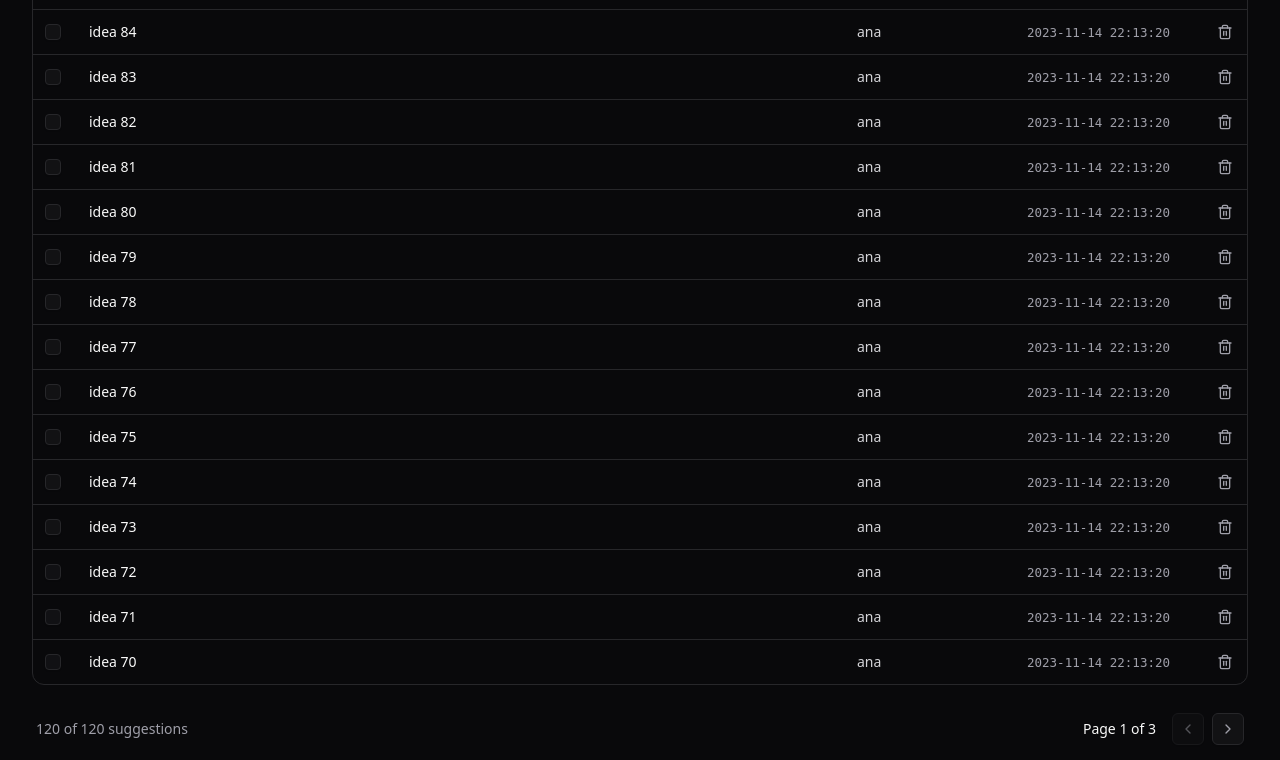
Test: Suggestions › on a later page › goes back to the first page when filtered
The width and height of the screenshot is (1280, 760).
(page scrolled)
Step 1. Click the button named "Next page" → (1228, 729), box [1212,713,1244,745]
(page scrolled)
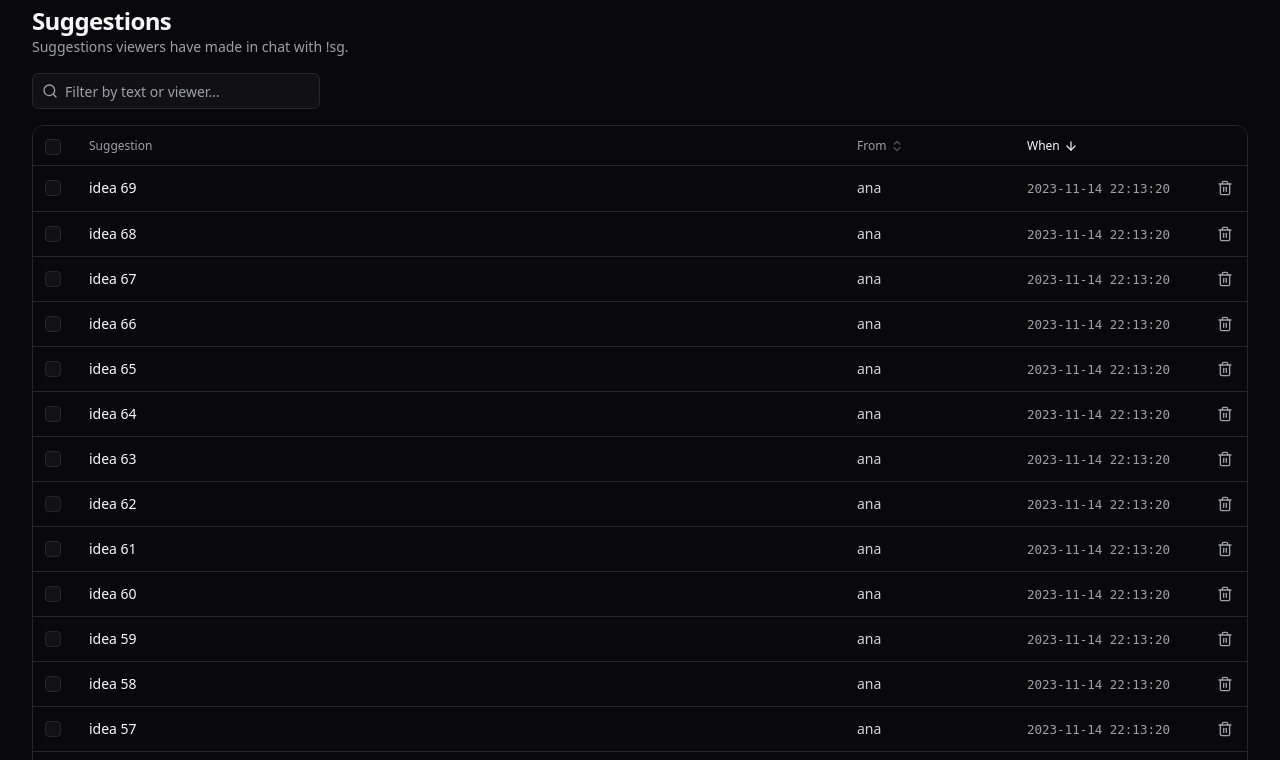
Step 2. Type "idea" into the field with placeholder "Filter by text or viewer…" → (176, 91), box [32,73,320,109]
(page scrolled)
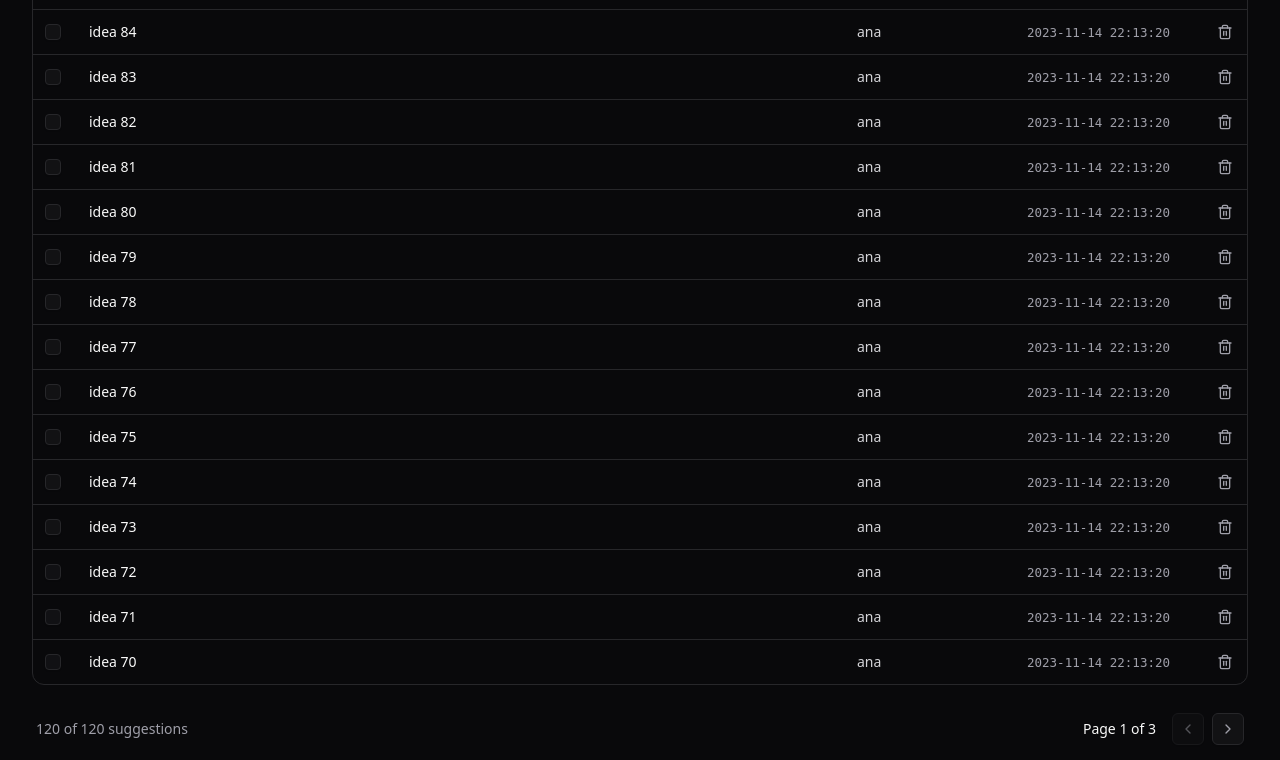
Expected: the text "Page 1 of 3" is shown, [1083,719,1156,739]
